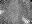person: (23, 15, 29, 24), (1, 10, 6, 14)
